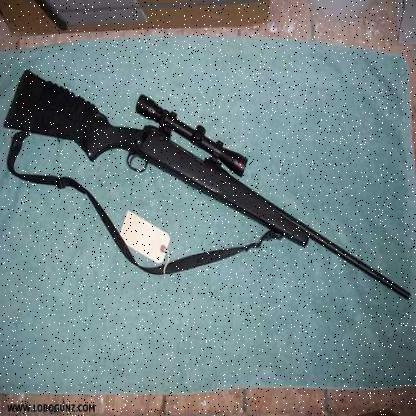rifle: (2, 51, 415, 343)
